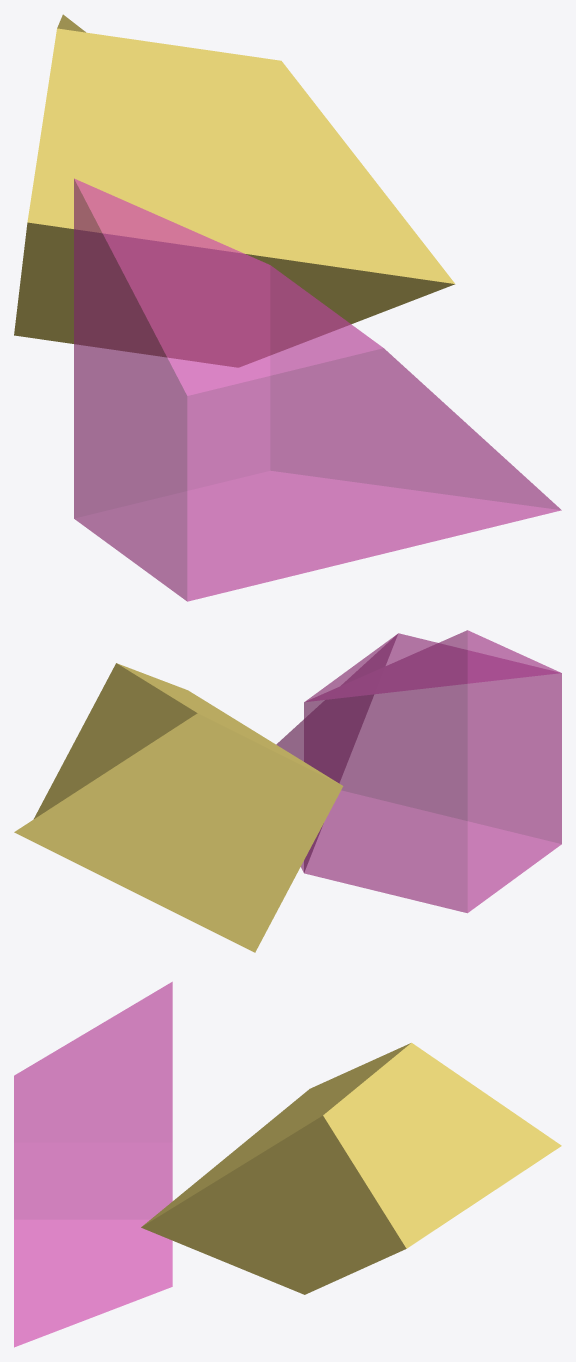
Rendered from testCubeBlob.gltf.
3 renders of one model, top to bottom at view 1: azimuth 30°, elevation 25°; view 2: azimuth 150°, elevation 25°; view 3: azimuth 270°, elevation 25°, orthographic. The views are drawn at different scales.
Parts seen in each view (by area): view 1: glossyCube, roughCube; view 2: glossyCube, roughCube; view 3: roughCube, glossyCube.
Part boxes in pixels (left/top/right/bottom): glossyCube: left=74, top=178, right=561, bottom=601; roughCube: left=14, top=14, right=455, bottom=367; glossyCube: left=276, top=630, right=561, bottom=913; roughCube: left=14, top=663, right=343, bottom=952; roughCube: left=141, top=1042, right=561, bottom=1294; glossyCube: left=14, top=981, right=172, bottom=1347.
Size of the model in its own units: 5.4 by 4.69 by 9.77.
